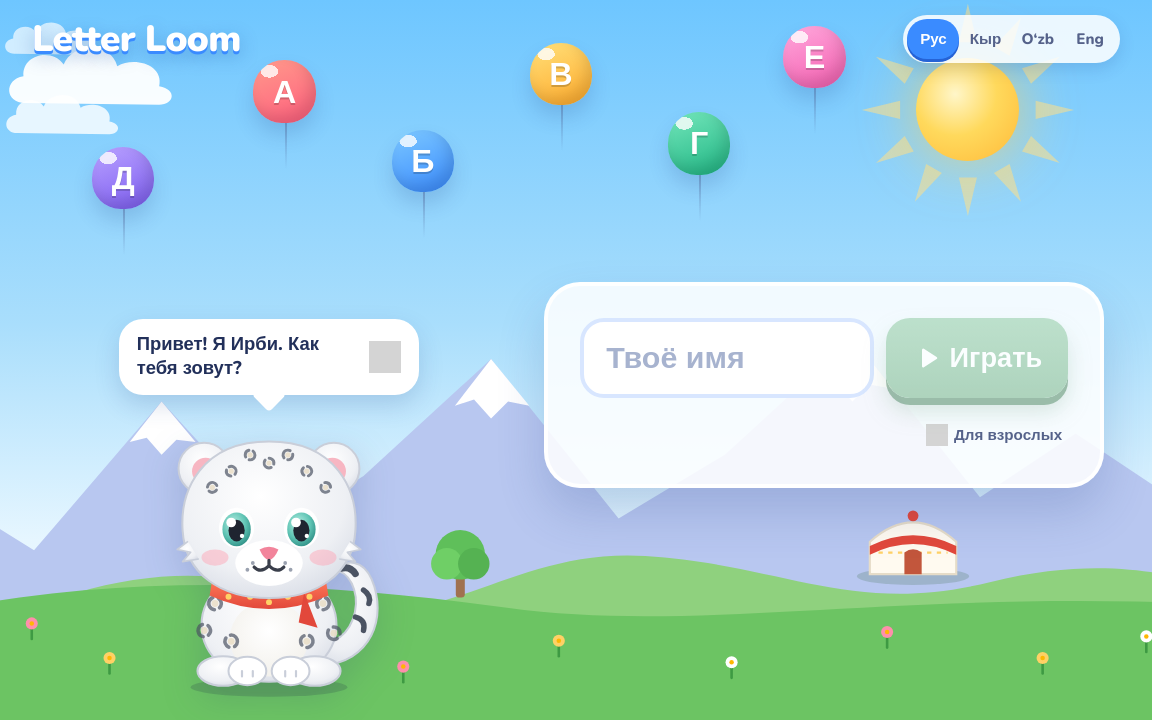
Test case: App › switches menu language to Uzbek
Expected: the text "Привет! Я Ирби. Как тебя зовут?" is shown, [137,332,319,382]
Click the button "O‘zb" at (1038, 39), box [1012,19,1064,59]
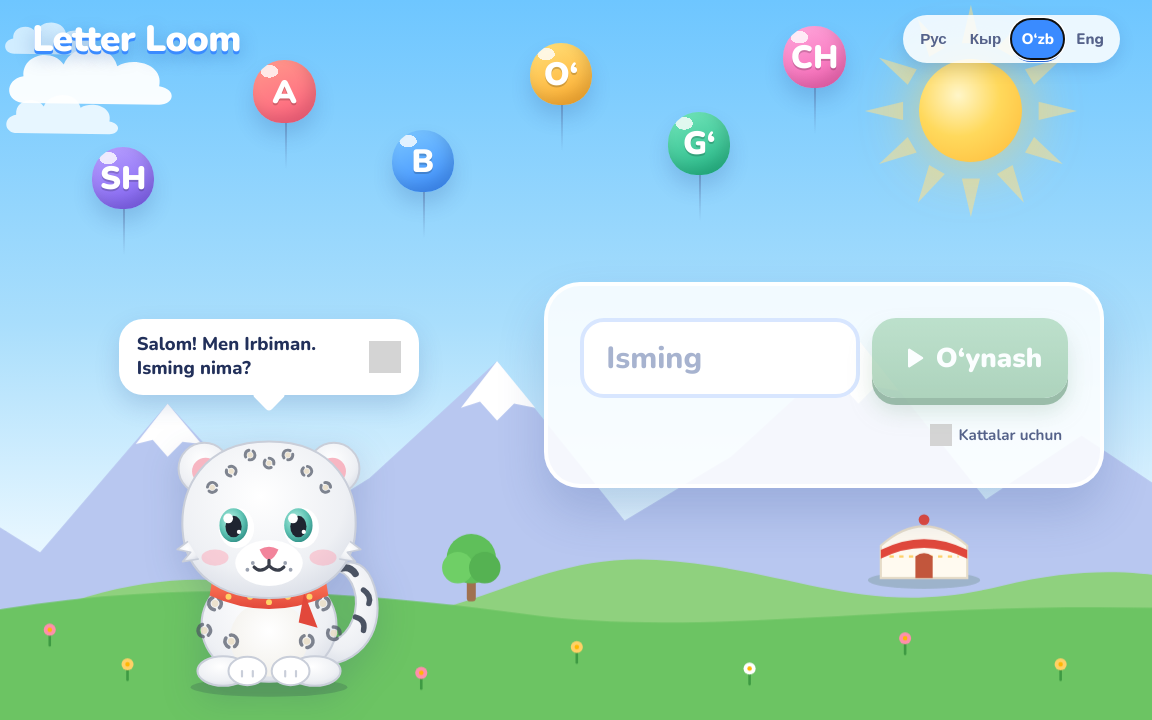
Result: the text "Salom! Men Irbiman. Isming nima?" is shown at [137,332,316,382]
Result: the button "O‘ynash" is shown at [872,318,1068,398]
